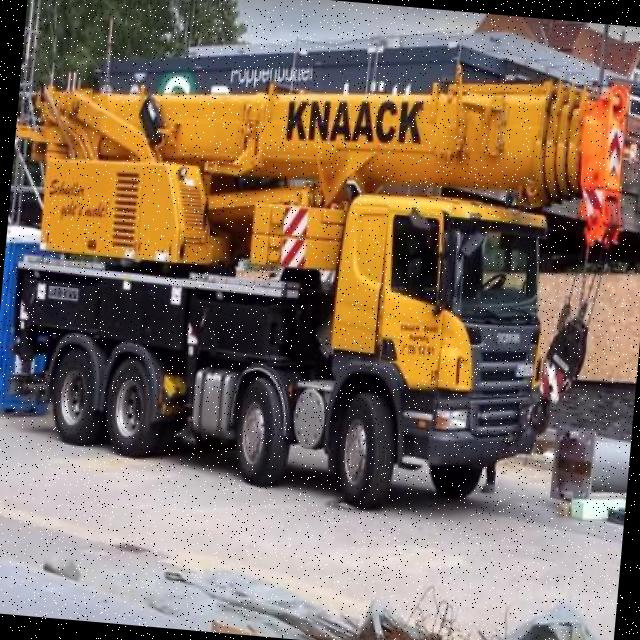Mobile Crane: (3, 34, 630, 528)
